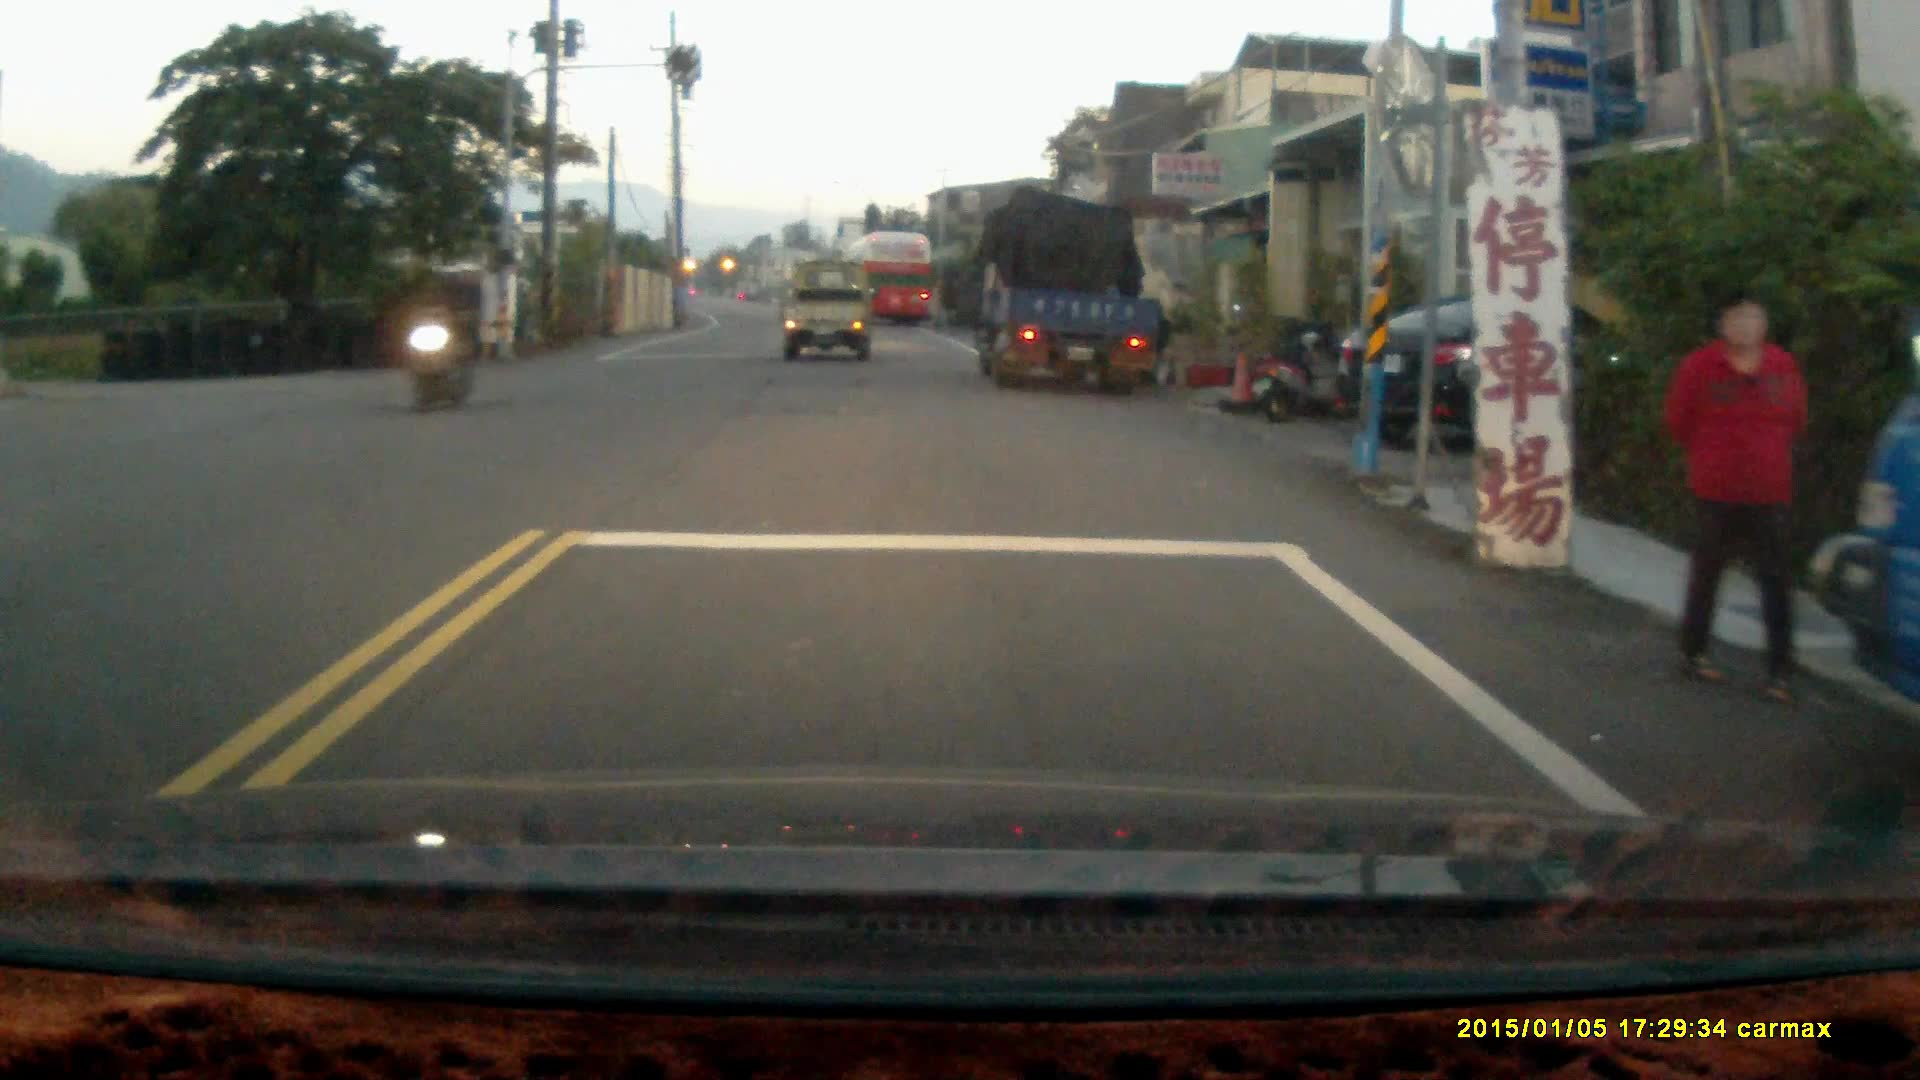pedestrian: (1656, 283, 1812, 713)
rider: (394, 260, 486, 414)
vehicle: (1802, 229, 1920, 753), (1328, 291, 1687, 458), (977, 192, 1169, 389), (780, 261, 875, 369), (842, 230, 938, 332)
